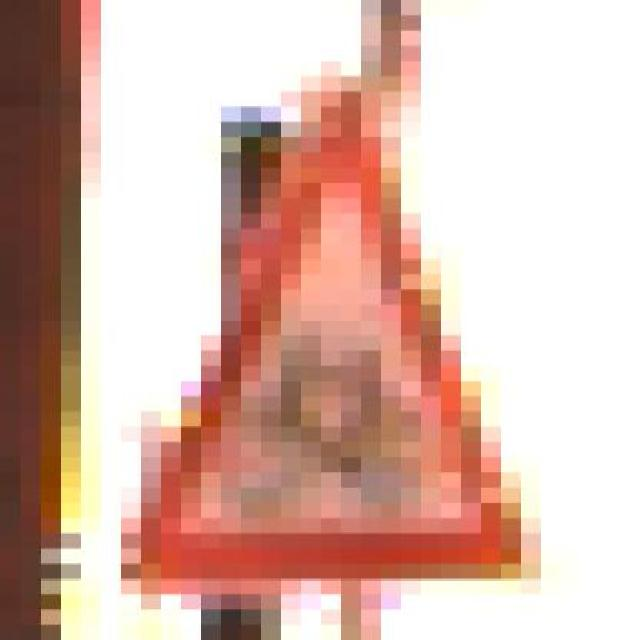CYCLE ROUTE AHEAD WARNING: (120, 61, 540, 610)
